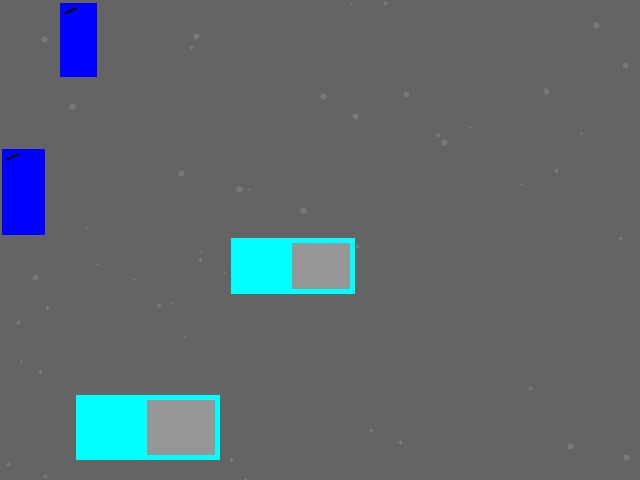motorcycle: (2, 149, 44, 234), (60, 3, 96, 76)
truck: (76, 395, 219, 459), (231, 238, 354, 293)
